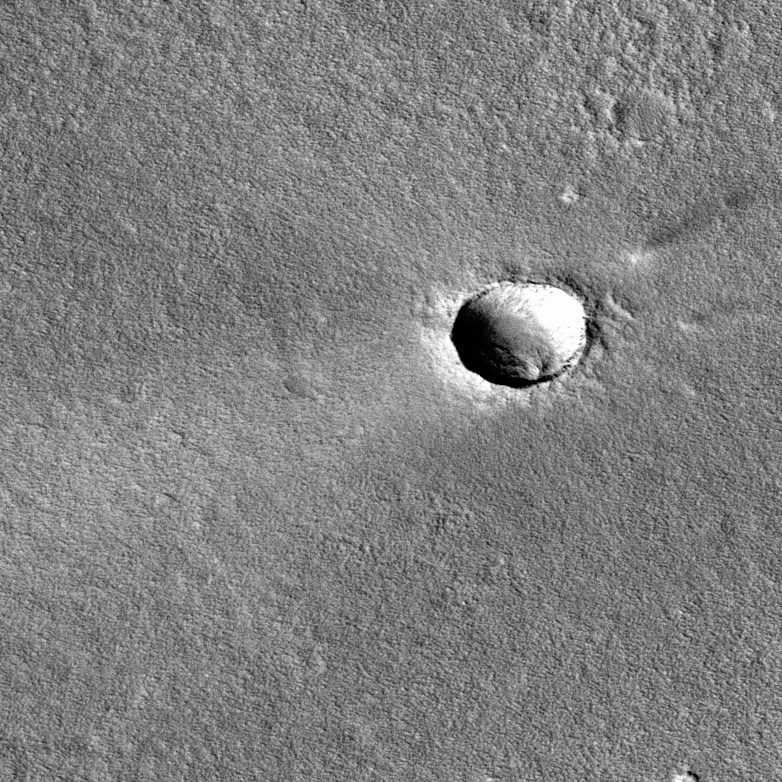dust_devil: (624, 188, 758, 267), (676, 292, 762, 336)
